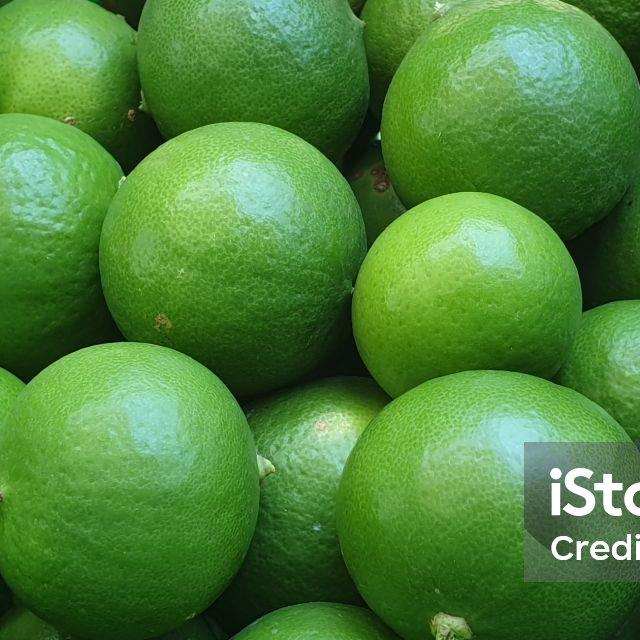lime: (0, 344, 264, 639), (347, 194, 590, 404)
